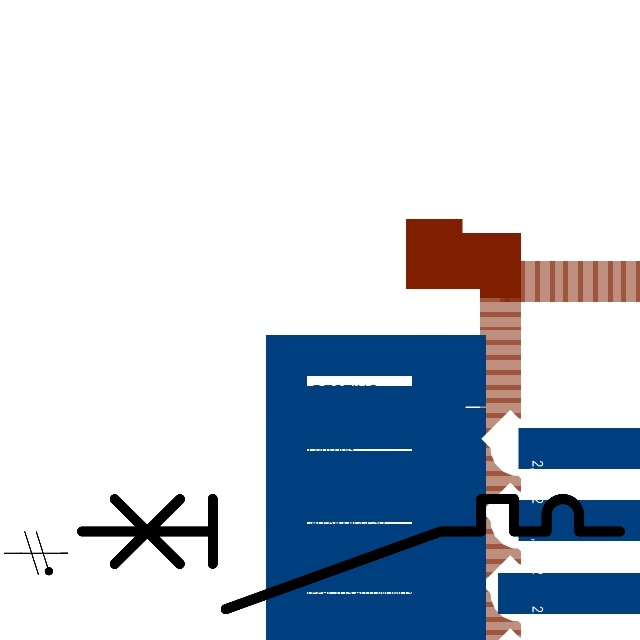interruptor_termomagnetico: (68, 485, 634, 623)
